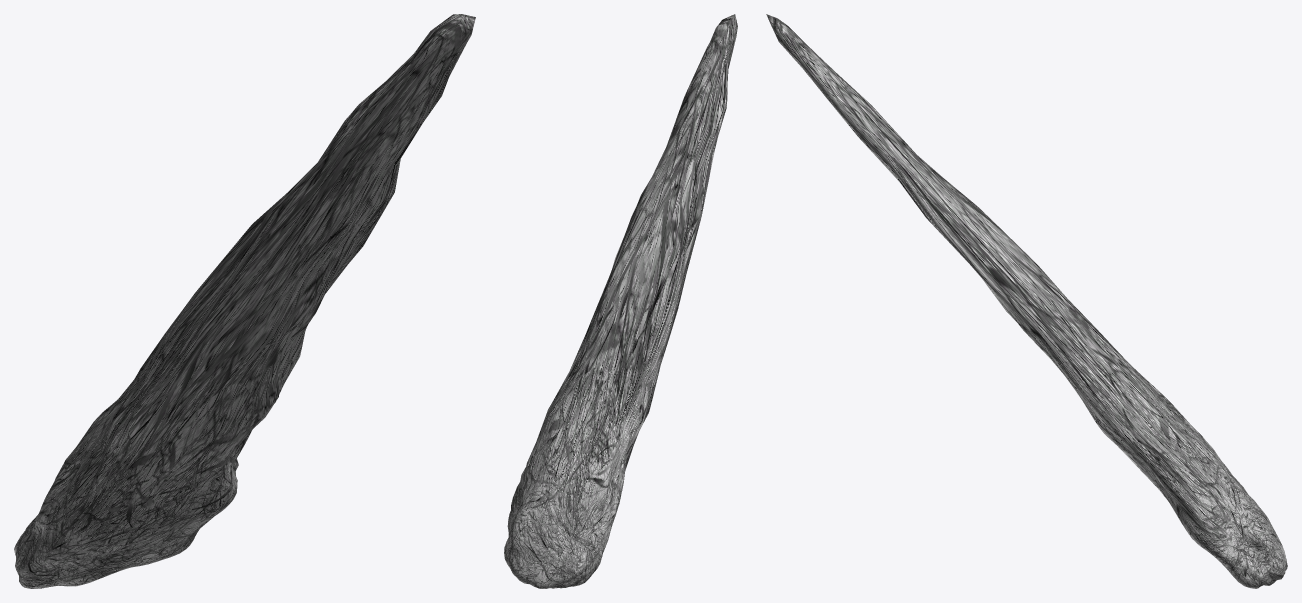
Rendered from scourge_mega_spike.obj.
3 renders of one model, left to right at view 1: azimuth 30°, elevation 25°; view 2: azimuth 150°, elevation 25°; view 3: azimuth 270°, elevation 25°, orthographic. The views are drawn at different scales.
Parts seen in each view (by area): view 1: Cube; view 2: Cube; view 3: Cube.
Part boxes in pixels (x1,y1,x2,y2): Cube: [14, 14, 475, 588]; Cube: [504, 14, 737, 588]; Cube: [766, 14, 1287, 588].
Bounding box in the file's own units: 9.16 × 37.99 × 32.12.
